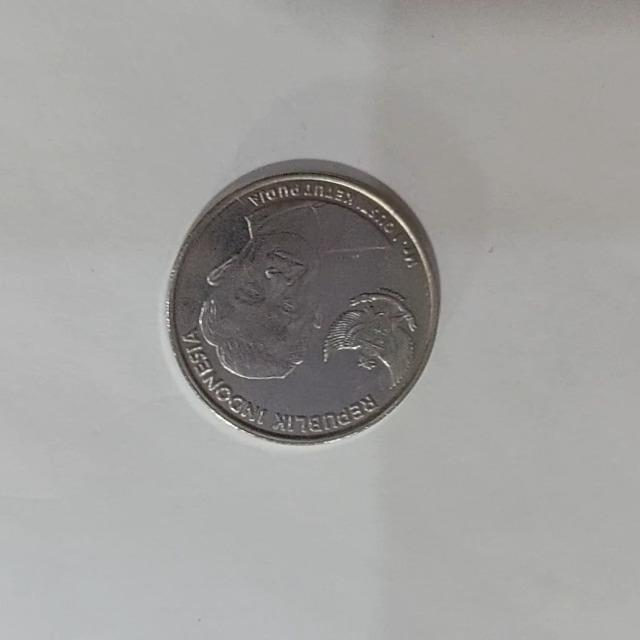Rp100: (164, 158, 441, 446)
